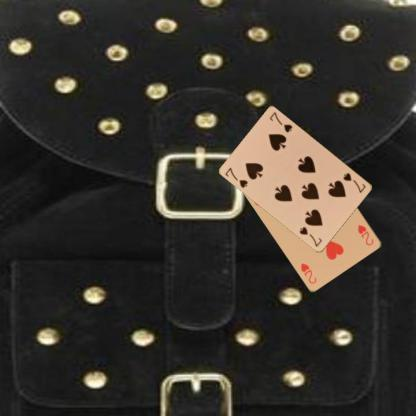2h: (355, 222, 375, 247)
7s: (222, 164, 250, 190), (341, 170, 367, 194)
